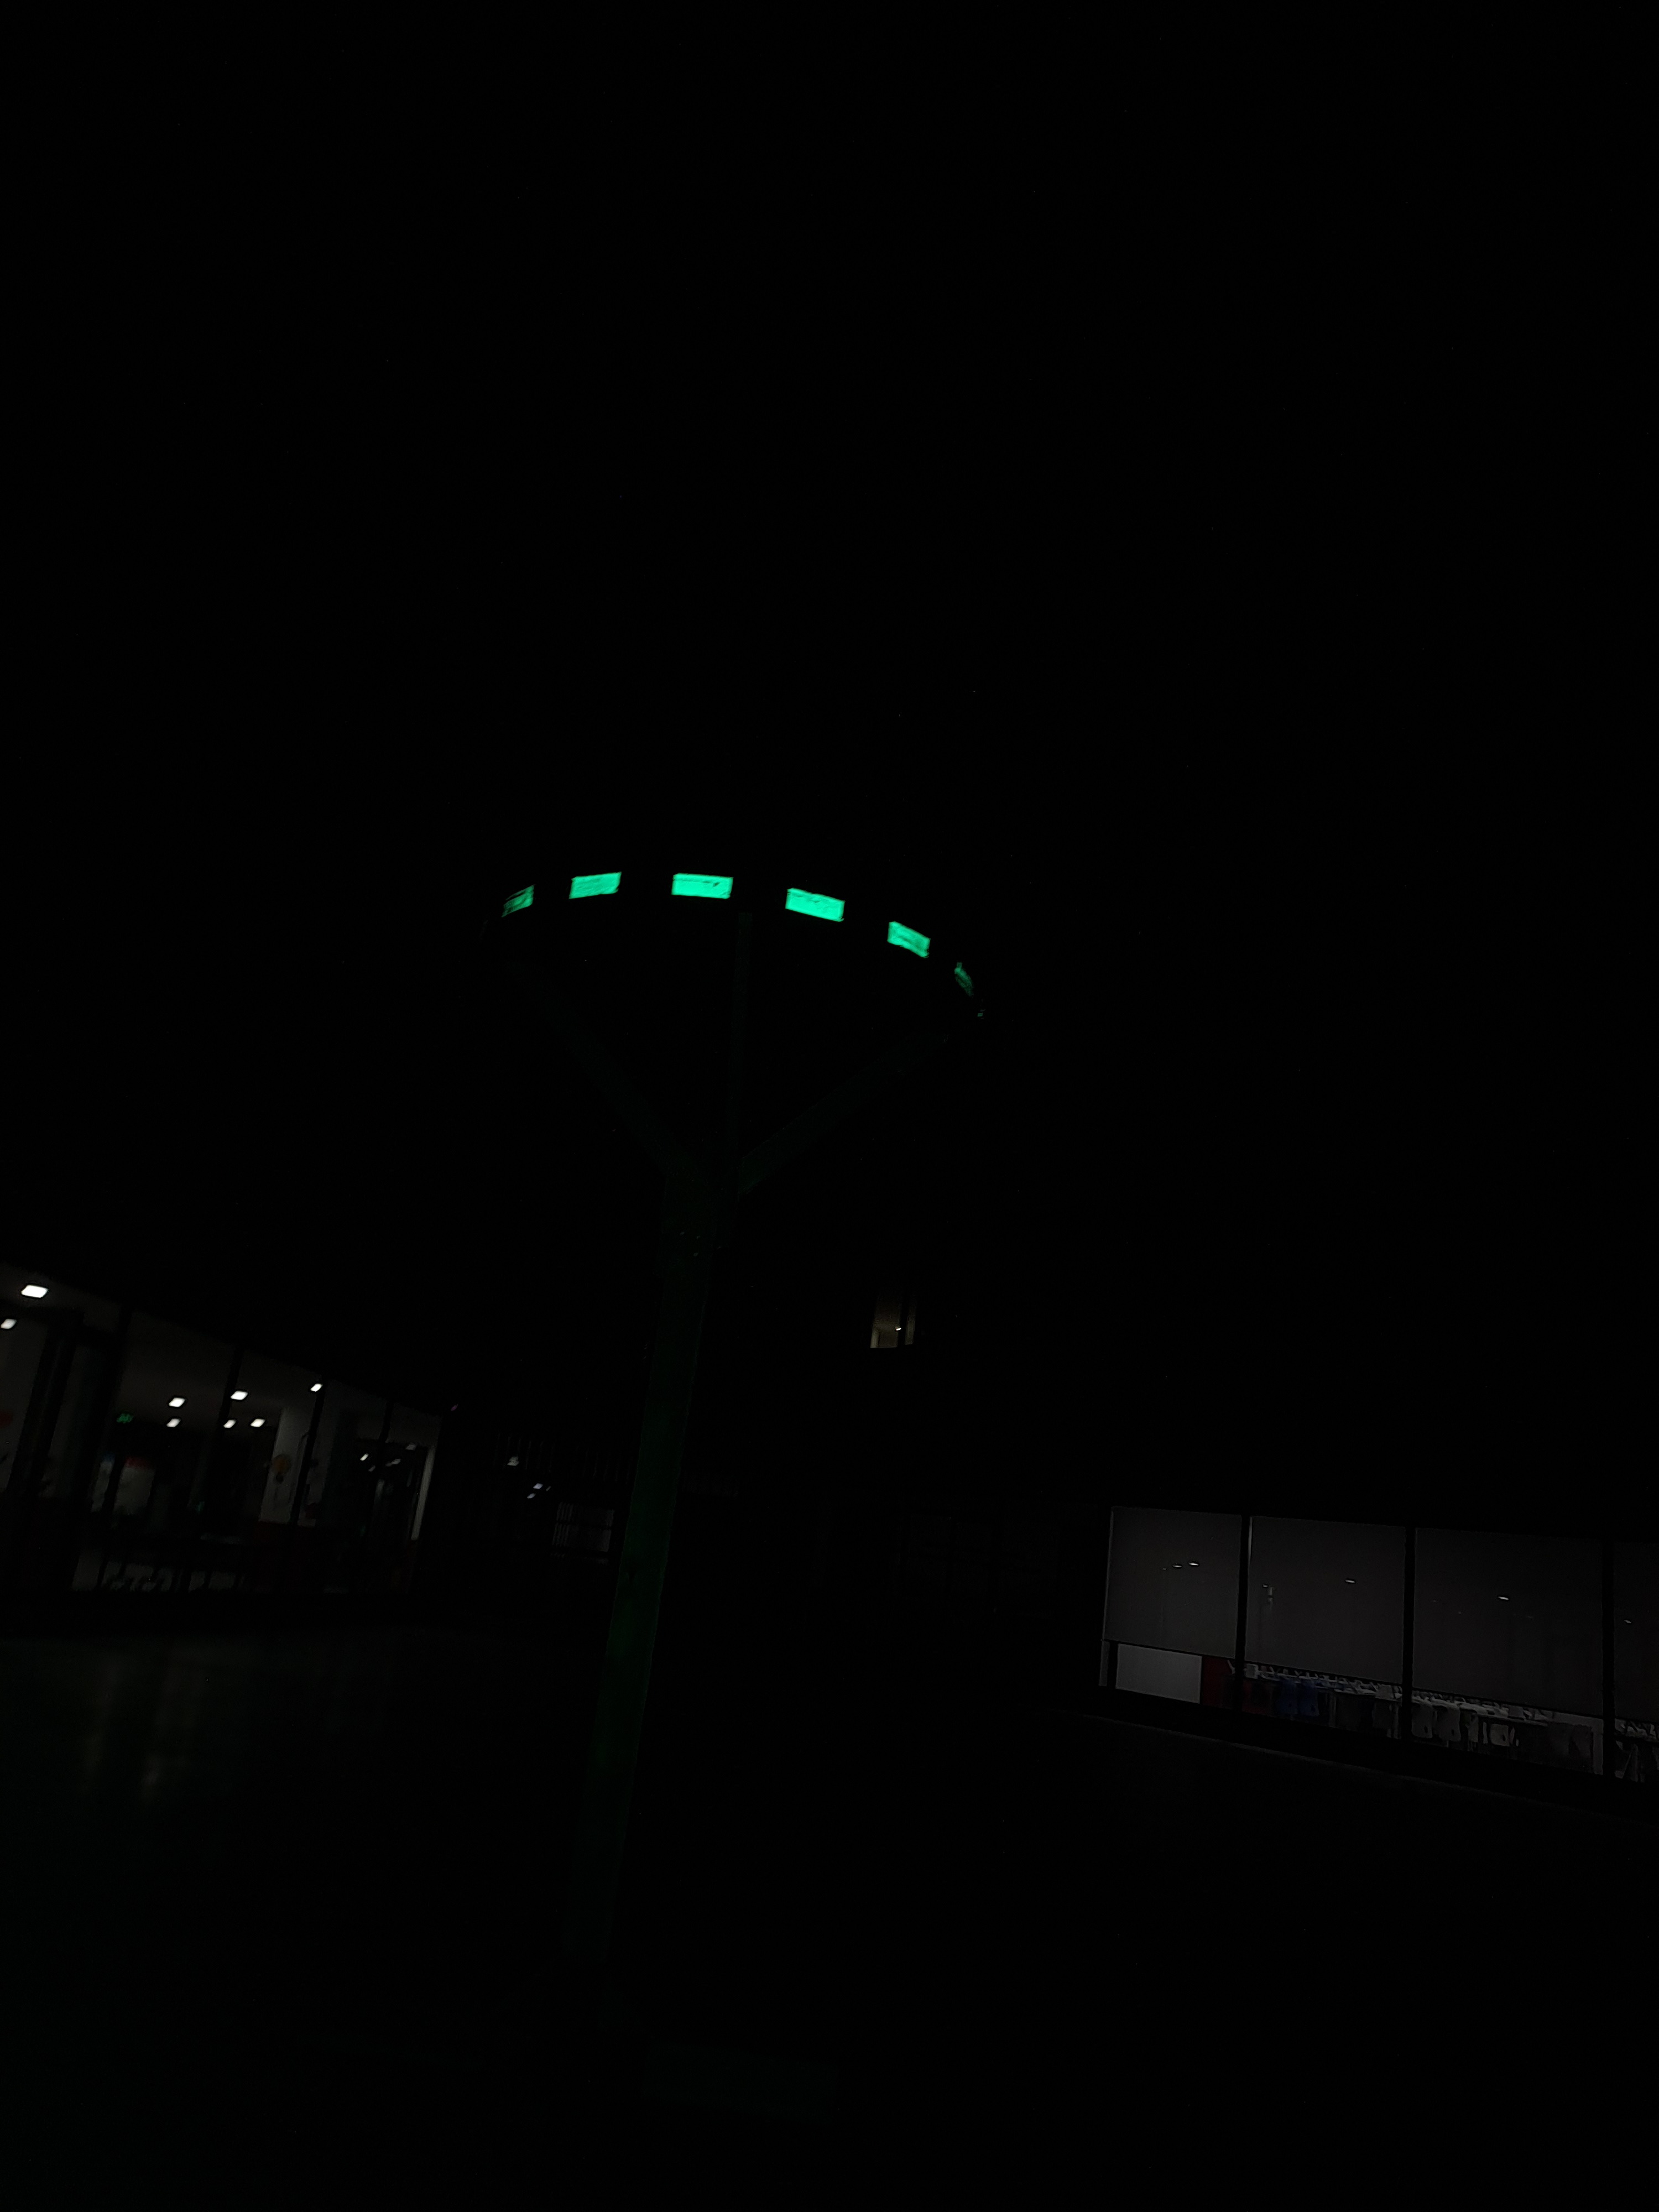hoop: (493, 853, 939, 972)
